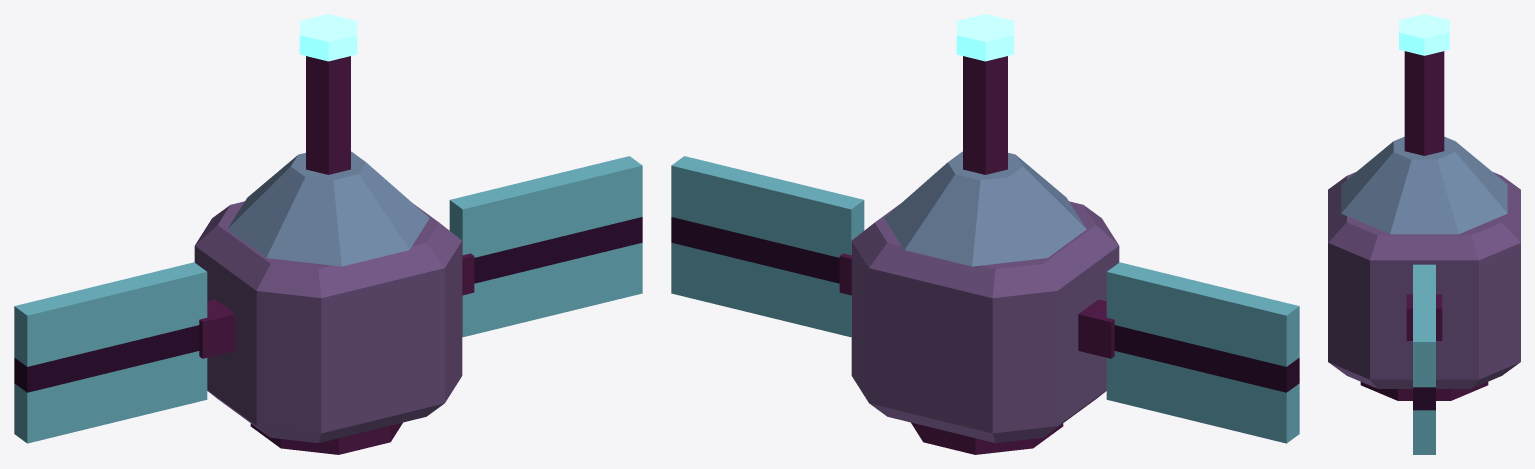
File: satellite.glb
The picture shows the model from 3 angles, left to right: view 1: azimuth 30°, elevation 25°; view 2: azimuth 150°, elevation 25°; view 3: azimuth 270°, elevation 25°; orthographic projection. The views are drawn at different scales.
Parts seen in each view (by area): view 1: Satellite; view 2: Satellite; view 3: Satellite.
Boxes of the visible parts, <box> form: Satellite: <box>14,14,642,454</box>; Satellite: <box>671,14,1299,454</box>; Satellite: <box>1328,14,1520,454</box>.
Bounding box in the file's own units: 1.5 × 0.915 × 0.46.
